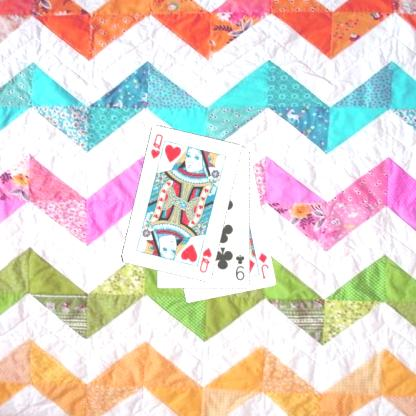9C: (233, 252, 246, 282)
JD: (256, 250, 270, 280)
QH: (148, 131, 167, 166), (197, 245, 213, 274)
